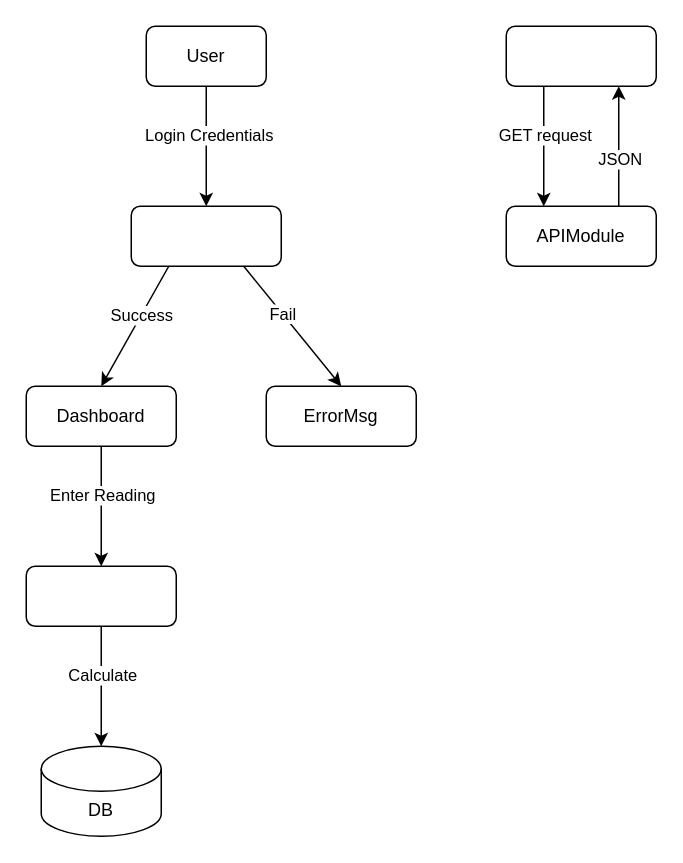
Image size: 683x863. Some labels were removed from this diagram. The centre of each missing label's shape, as x and y in pixels:
"AuthModule" goes at (x=205, y=235).
"BillModule" goes at (x=100, y=595).
"ExternalApp" goes at (x=580, y=55).
